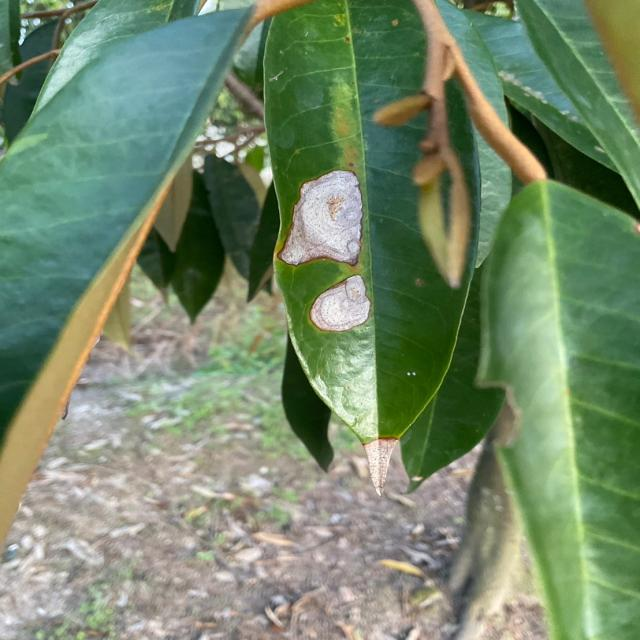Leaf Blight: (266, 0, 482, 501), (316, 274, 368, 328)
